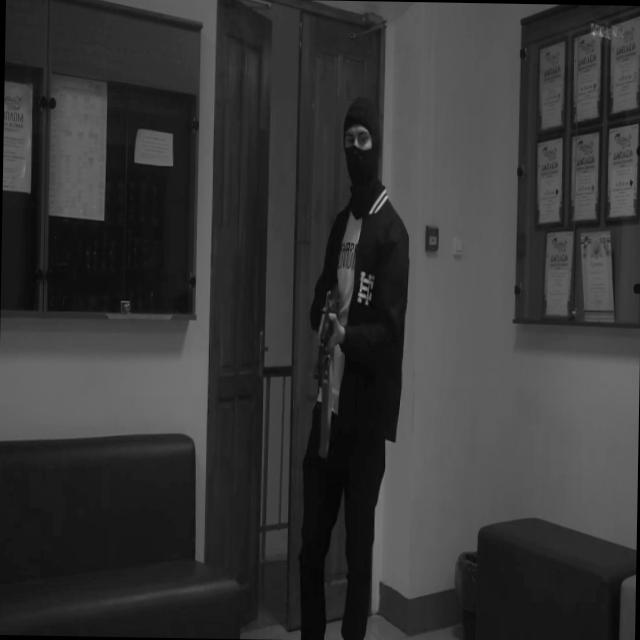gun: (311, 263, 342, 387)
person with a gun: (296, 95, 412, 640)
